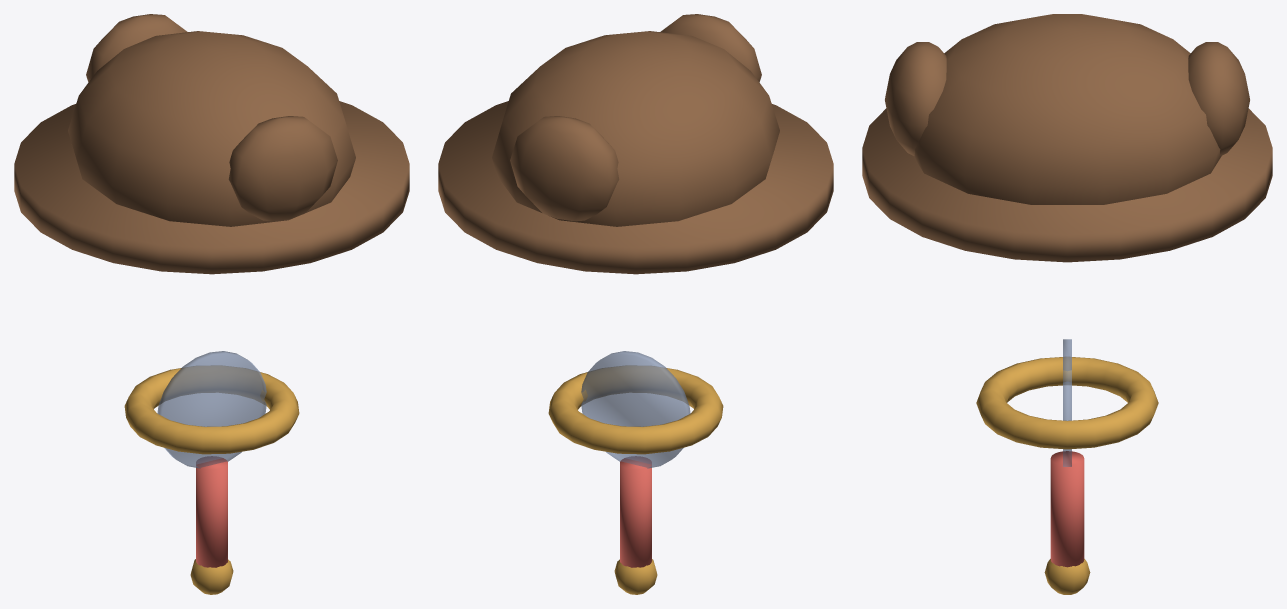
Rendered from opera_detective_outfit.glb.
The picture shows the model from 3 angles, left to right: view 1: azimuth 30°, elevation 25°; view 2: azimuth 150°, elevation 25°; view 3: azimuth 270°, elevation 25°; orthographic projection. The views are drawn at different scales.
Visible parts, largest first — view 1: Crown, Brim, Lens, Flap, Glass, MagHandle, Flap.001, HandleTip; view 2: Crown, Brim, Lens, Flap.001, Glass, MagHandle, Flap, HandleTip; view 3: Crown, Brim, Lens, Flap, Flap.001, MagHandle, HandleTip, Glass.
Boxes of the visible parts, x1,y1,x2,y2 form: Crown: (68,31,355,226); Brim: (14,101,409,274); Lens: (124,365,299,454); Flap: (228,116,337,221); Glass: (157,351,266,468); MagHandle: (196,456,227,567); Flap.001: (86,14,187,82); HandleTip: (190,559,233,594); Crown: (492,31,779,226); Brim: (438,101,833,274); Lens: (548,365,723,454); Flap.001: (510,116,619,221); Glass: (581,351,690,468); MagHandle: (620,456,651,567); Flap: (660,14,761,82); HandleTip: (614,559,657,594); Crown: (913,14,1221,204); Brim: (862,108,1272,262); Lens: (976,357,1158,449); Flap: (885,42,946,155); Flap.001: (1188,42,1249,155); MagHandle: (1050,451,1084,567); HandleTip: (1044,559,1090,594); Glass: (1063,339,1071,466).
Bounding box in the file's own units: 2.7 × 4.09 × 2.7.
